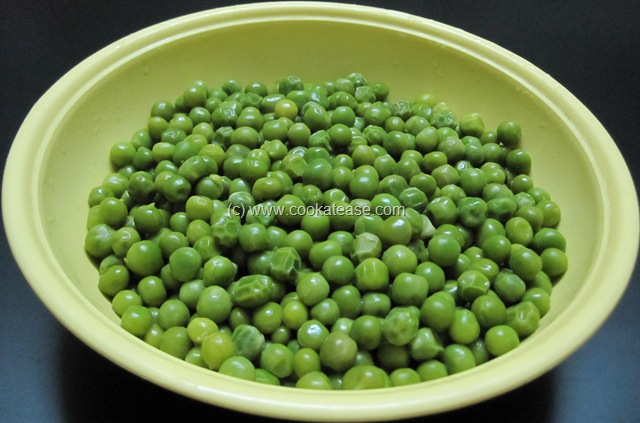boiled peas: (156, 124, 510, 347)
